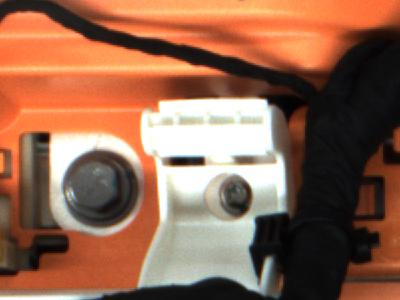nut_b: (61, 152, 145, 228)
